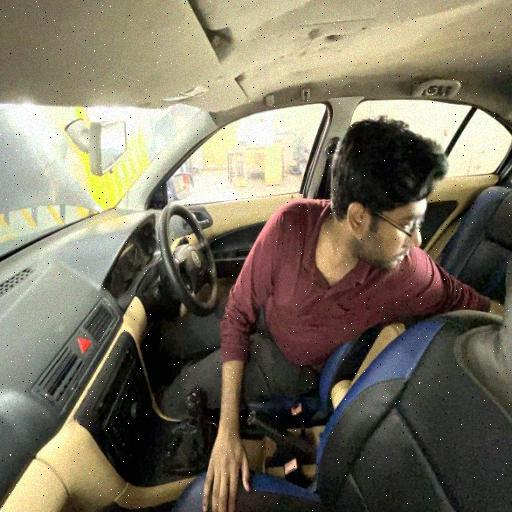Reaching_behind: (224, 120, 503, 465)
